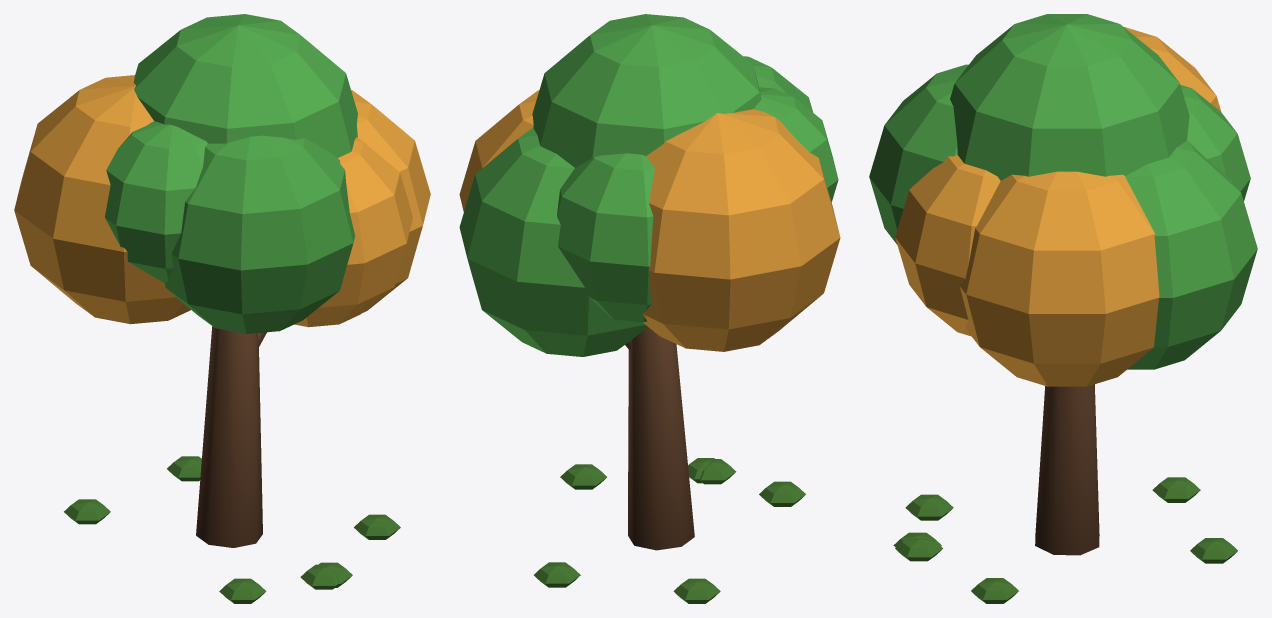
Rendered from tree_round.glb.
3 renders of one model, left to right at view 1: azimuth 30°, elevation 25°; view 2: azimuth 150°, elevation 25°; view 3: azimuth 270°, elevation 25°, orthographic. The views are drawn at different scales.
Parts seen in each view (by area): view 1: t0_leaf, t0_leaf_autumn, t0_bark, t0_grass; view 2: t0_leaf, t0_leaf_autumn, t0_bark, t0_grass; view 3: t0_leaf, t0_leaf_autumn, t0_bark, t0_grass.
Part boxes in pixels (<box>): t0_leaf: <box>105,14,357,333</box>; t0_leaf_autumn: <box>14,75,430,327</box>; t0_bark: <box>196,326,266,547</box>; t0_grass: <box>64,456,400,603</box>; t0_leaf: <box>459,14,838,356</box>; t0_leaf_autumn: <box>459,90,840,351</box>; t0_bark: <box>625,327,694,550</box>; t0_grass: <box>534,458,805,603</box>; t0_leaf: <box>869,14,1257,369</box>; t0_leaf_autumn: <box>895,27,1221,386</box>; t0_bark: <box>1035,384,1099,555</box>; t0_grass: <box>893,477,1237,603</box>.
Bounding box in the file's own units: 1.97 × 2.67 × 1.79.
